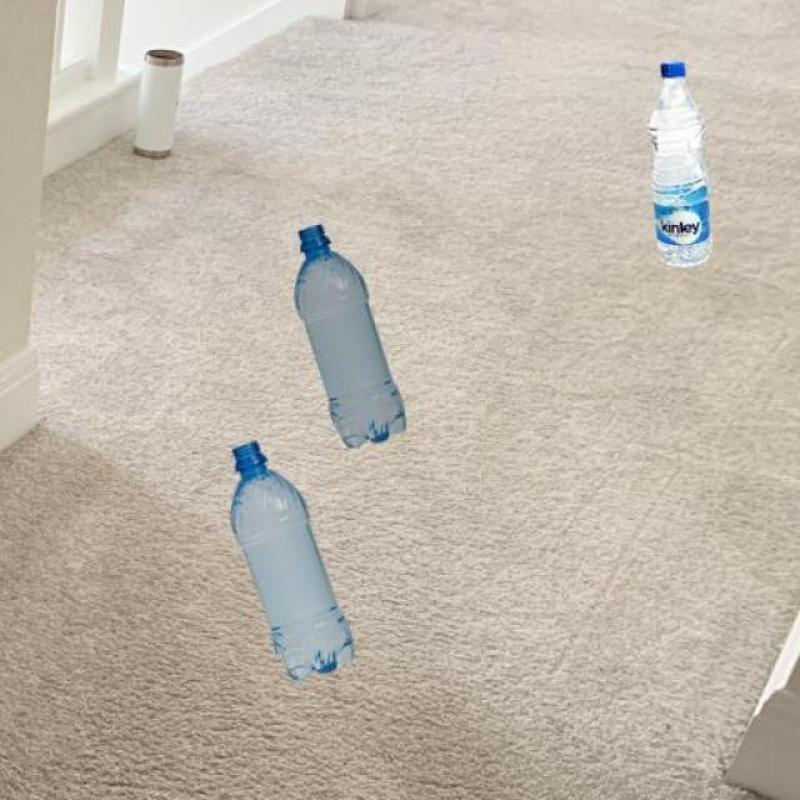botella: (215, 440, 356, 682), (290, 217, 410, 447), (649, 56, 715, 266)
